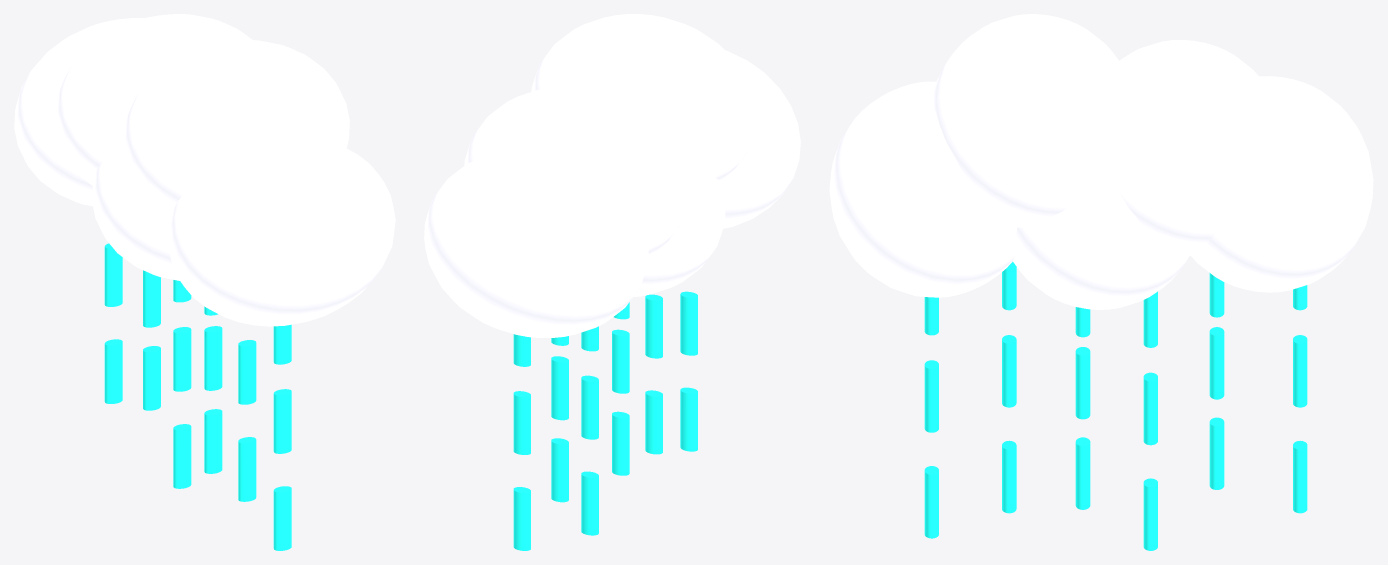
The model's file is rain.glb.
3 views of the same model, side by side, from view 1: azimuth 30°, elevation 25°; view 2: azimuth 150°, elevation 25°; view 3: azimuth 270°, elevation 25° (orthographic). The views are drawn at different scales.
Parts seen in each view (by area): view 1: Sphere (×5), Cylinder (×13); view 2: Sphere (×5), Cylinder (×13); view 3: Sphere (×5), Cylinder (×14).
Part boxes in pixels (x1,y1,x2,y2): Sphere (×5): (14,14,395,326); Cylinder (×13): (104,243,291,550); Sphere (×5): (424,14,800,337); Cylinder (×13): (513,291,697,550); Sphere (×5): (829,14,1373,309); Cylinder (×14): (924,261,1307,550).
Bounding box in the file's own units: 2.98 × 6.54 × 6.23.
